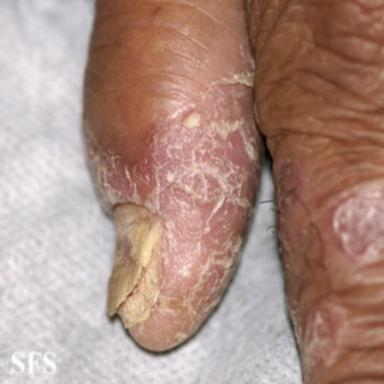eczema: (85, 41, 261, 350), (276, 156, 348, 382), (333, 183, 384, 265)
